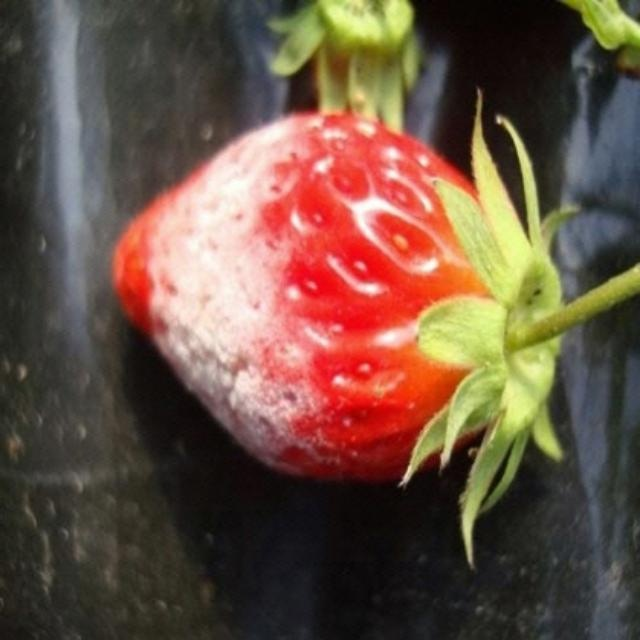Powdery Mildew Fruit: (136, 109, 385, 478)
